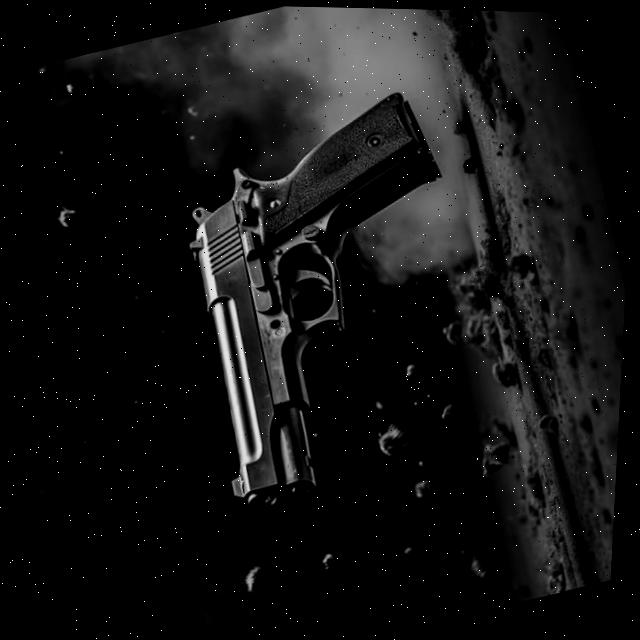gun: (188, 89, 443, 504)
